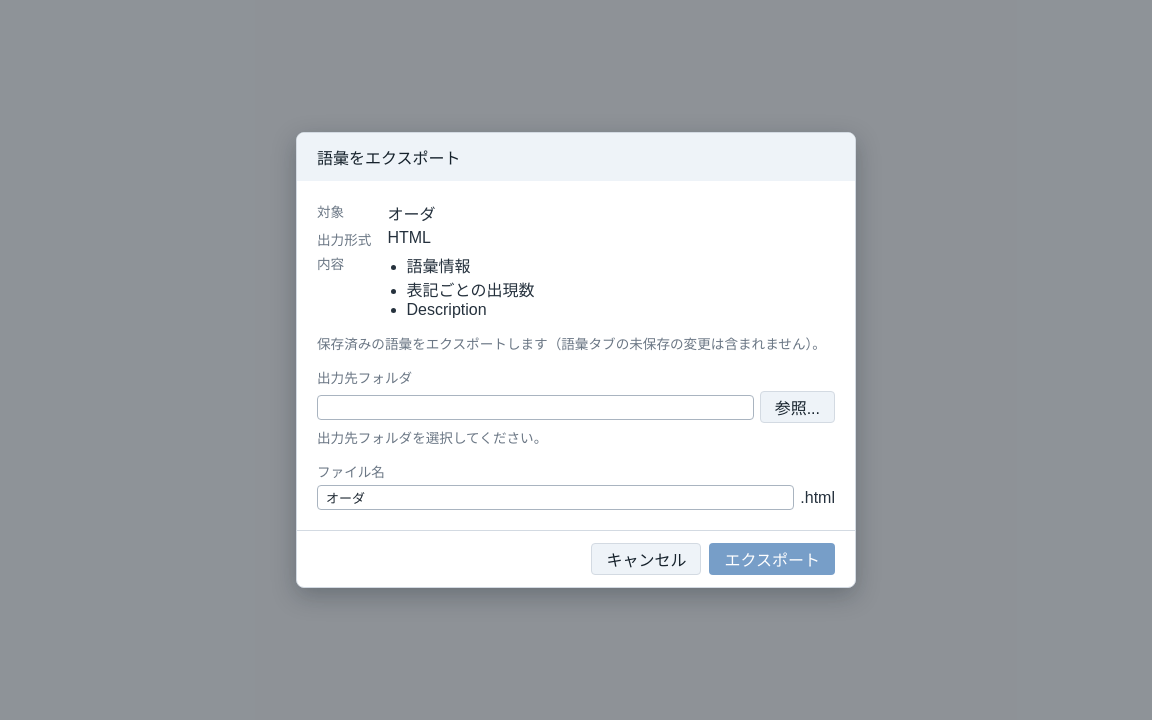
Test case: GlossaryExportDialog (#574 Slice 6) › requires an output folder before Export is enabled
expect the button "エクスポート" is disabled: met, box [710,543,835,575]
Click the button "参照..." at [797, 407], box [760,391,835,423]
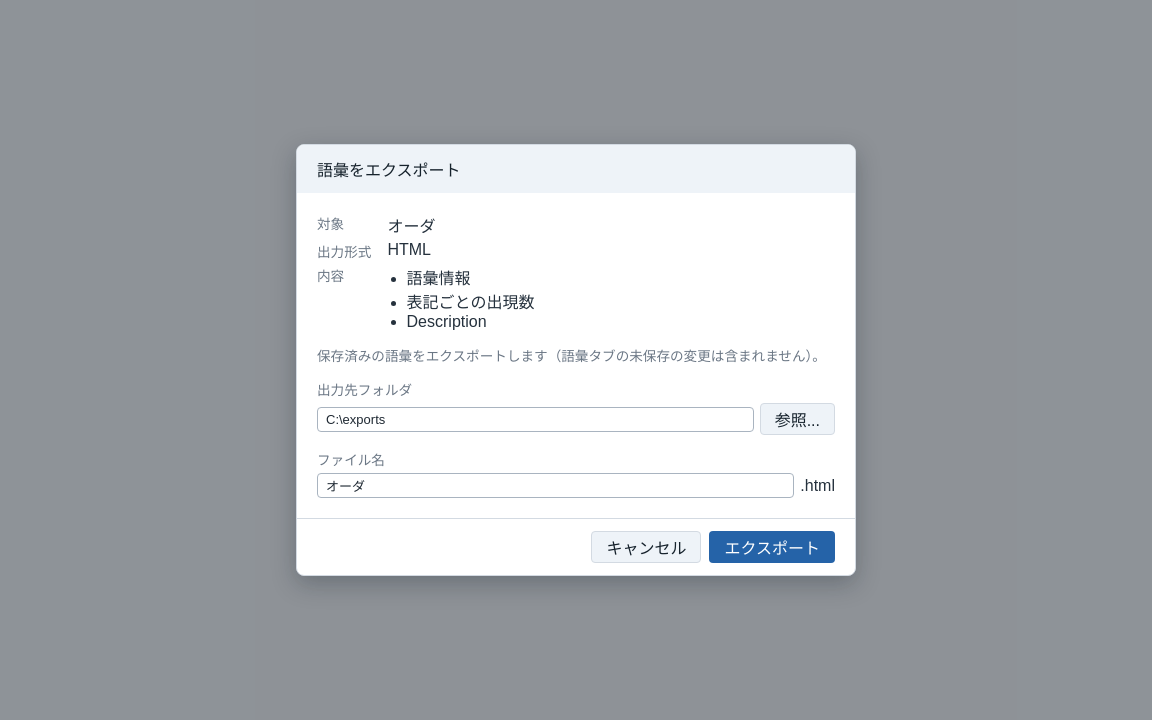
expect the button "エクスポート" is enabled: met, box [710,531,835,563]
